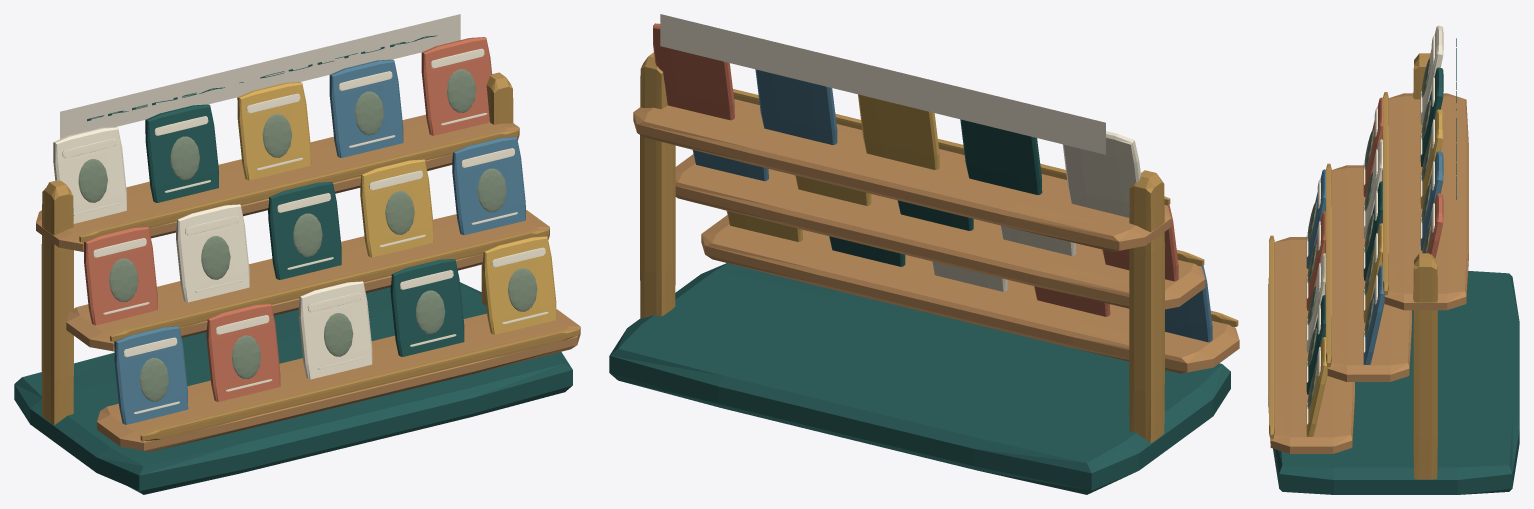
Rendered from better.glb.
The picture shows the model from 3 angles, left to right: view 1: azimuth 30°, elevation 25°; view 2: azimuth 150°, elevation 25°; view 3: azimuth 270°, elevation 25°; orthographic projection. The views are drawn at different scales.
Visible parts, largest first — view 1: Native component 1, Native component 10, Native component 16, Native component 5, Native component 49, Native component 13, Native component 67, Native component 64, Native component 0; view 2: Native component 1, Native component 10, Native component 5, Native component 0, Native component 13, Native component 16, Native component 64, Native component 67; view 3: Native component 10, Native component 1, Native component 5, Native component 16, Native component 49, Native component 13, Native component 67, Native component 64.
Part boxes in pixels (box(x1,y1,x2,y2)): Native component 1: box(14, 104, 572, 494); Native component 10: box(36, 114, 580, 451); Native component 16: box(53, 48, 548, 414); Native component 5: box(41, 72, 579, 441); Native component 49: box(78, 69, 537, 401); Native component 13: box(114, 59, 525, 424); Native component 67: box(237, 82, 556, 334); Native component 64: box(84, 37, 492, 401); Native component 0: box(60, 14, 460, 138); Native component 1: box(609, 119, 1230, 494); Native component 10: box(633, 99, 1239, 373); Native component 5: box(640, 52, 1238, 442); Native component 0: box(660, 14, 1105, 154); Native component 13: box(692, 69, 1212, 342); Native component 16: box(931, 131, 1140, 291); Native component 64: box(653, 23, 1178, 316); Native component 67: box(726, 94, 939, 241); Native component 10: box(1268, 93, 1468, 453); Native component 1: box(1273, 67, 1519, 494); Native component 5: box(1268, 53, 1437, 479); Native component 16: box(1306, 25, 1443, 424); Native component 49: box(1307, 58, 1430, 408); Native component 13: box(1306, 151, 1443, 364); Native component 67: box(1306, 109, 1443, 436); Native component 64: box(1306, 97, 1443, 310).
Size of the model in its own units: 2 by 1.3 by 1.01.
